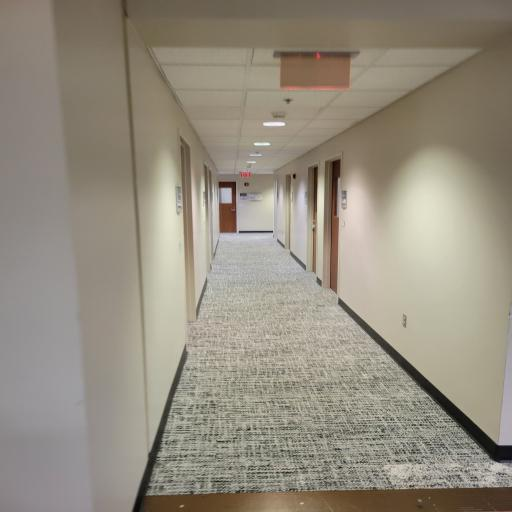door: (216, 180, 239, 233)
exit sign: (253, 45, 365, 98), (237, 168, 253, 180)
